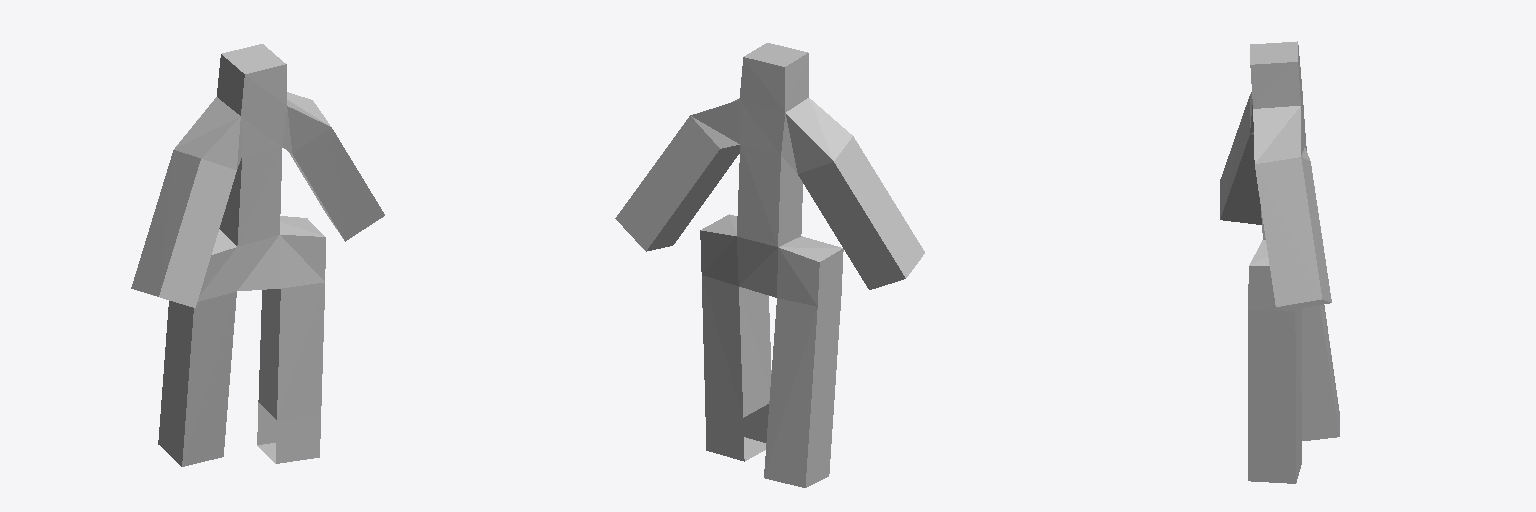
File: cuboid_000023.obj
The picture shows the model from 3 angles: view 1: azimuth 30°, elevation 25°; view 2: azimuth 150°, elevation 25°; view 3: azimuth 270°, elevation 25°; orthographic projection.
Parts seen in each view (by area): view 1: Cube; view 2: Cube; view 3: Cube.
Boxes of the visible parts, <box> form: Cube: <box>131,44,384,466</box>; Cube: <box>615,43,924,487</box>; Cube: <box>1220,41,1339,483</box>.
Size of the model in its own units: 3.16 by 4.63 by 1.25.